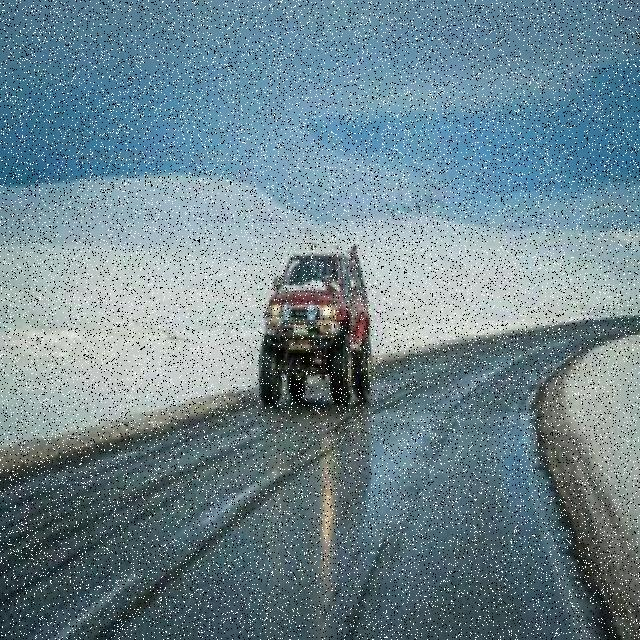ice-road: (0, 318, 640, 640)
